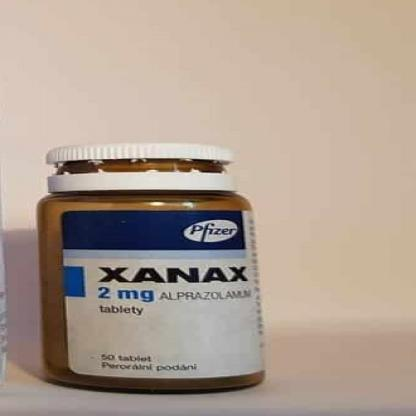jar: (32, 134, 265, 401)
